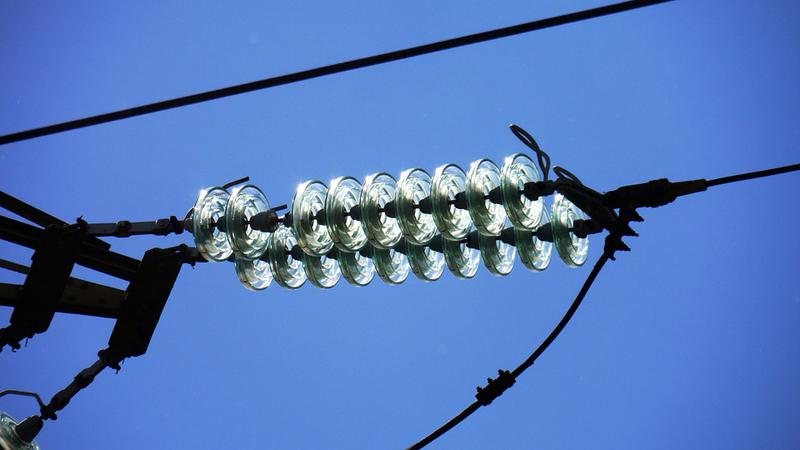gap: (223, 176, 336, 260)
isolator: (190, 150, 589, 292)
